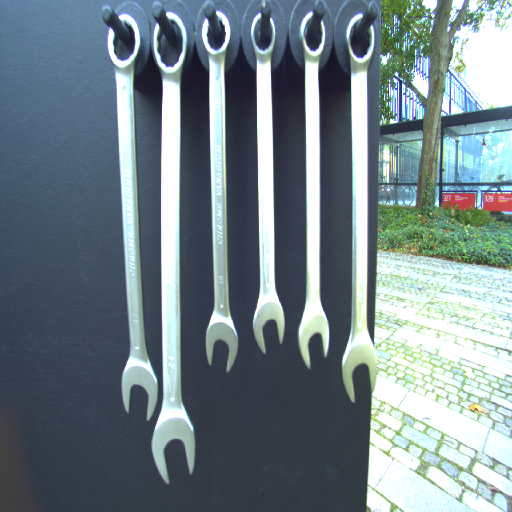bottom: (153, 404, 199, 486), (119, 345, 164, 423), (338, 331, 378, 404), (204, 309, 241, 374), (295, 306, 331, 370), (251, 293, 287, 354)
top: (150, 10, 190, 77), (105, 12, 148, 71), (344, 10, 376, 71), (199, 8, 235, 61), (298, 7, 328, 65), (248, 10, 279, 61)
